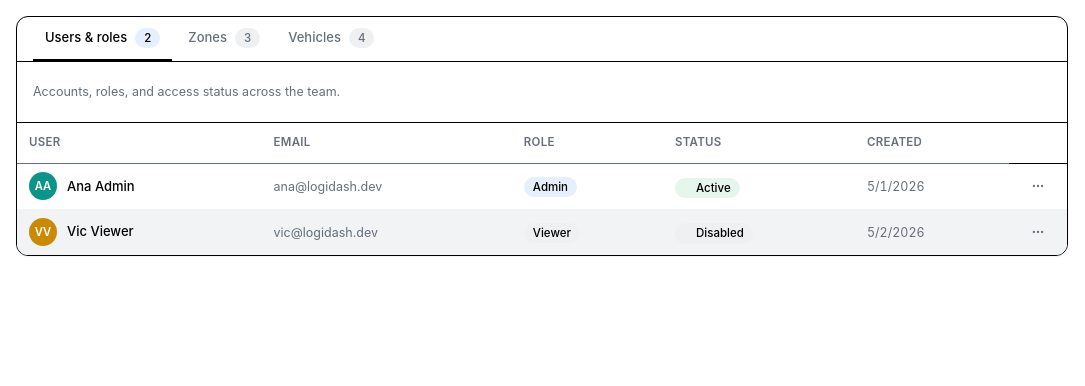
Test: switches tabs and shows per-tab counts
Expected: the text "2" is shown, [135, 28, 160, 48]
Expected: the text "3" is shown, [235, 28, 260, 48]
Click the tab "Zones 3" at (224, 39), box [176, 17, 272, 61]
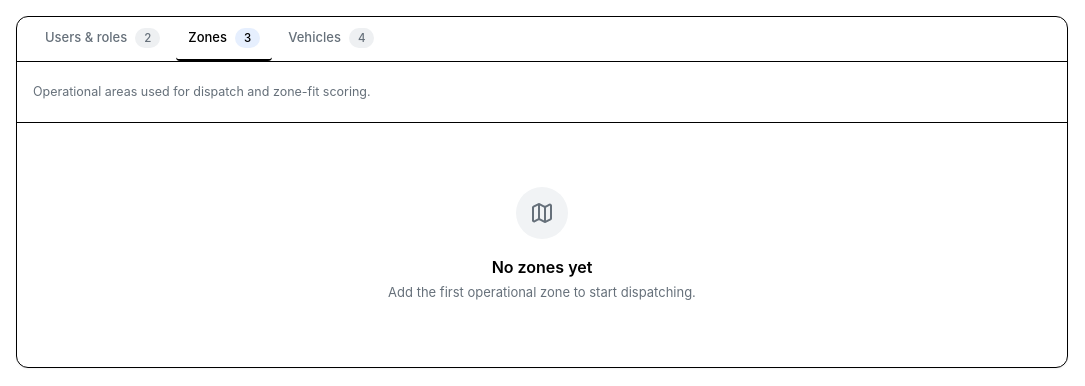
Now the text "No zones yet" is shown, box [492, 255, 592, 279]
Now the text "Ana Admin" is gone
